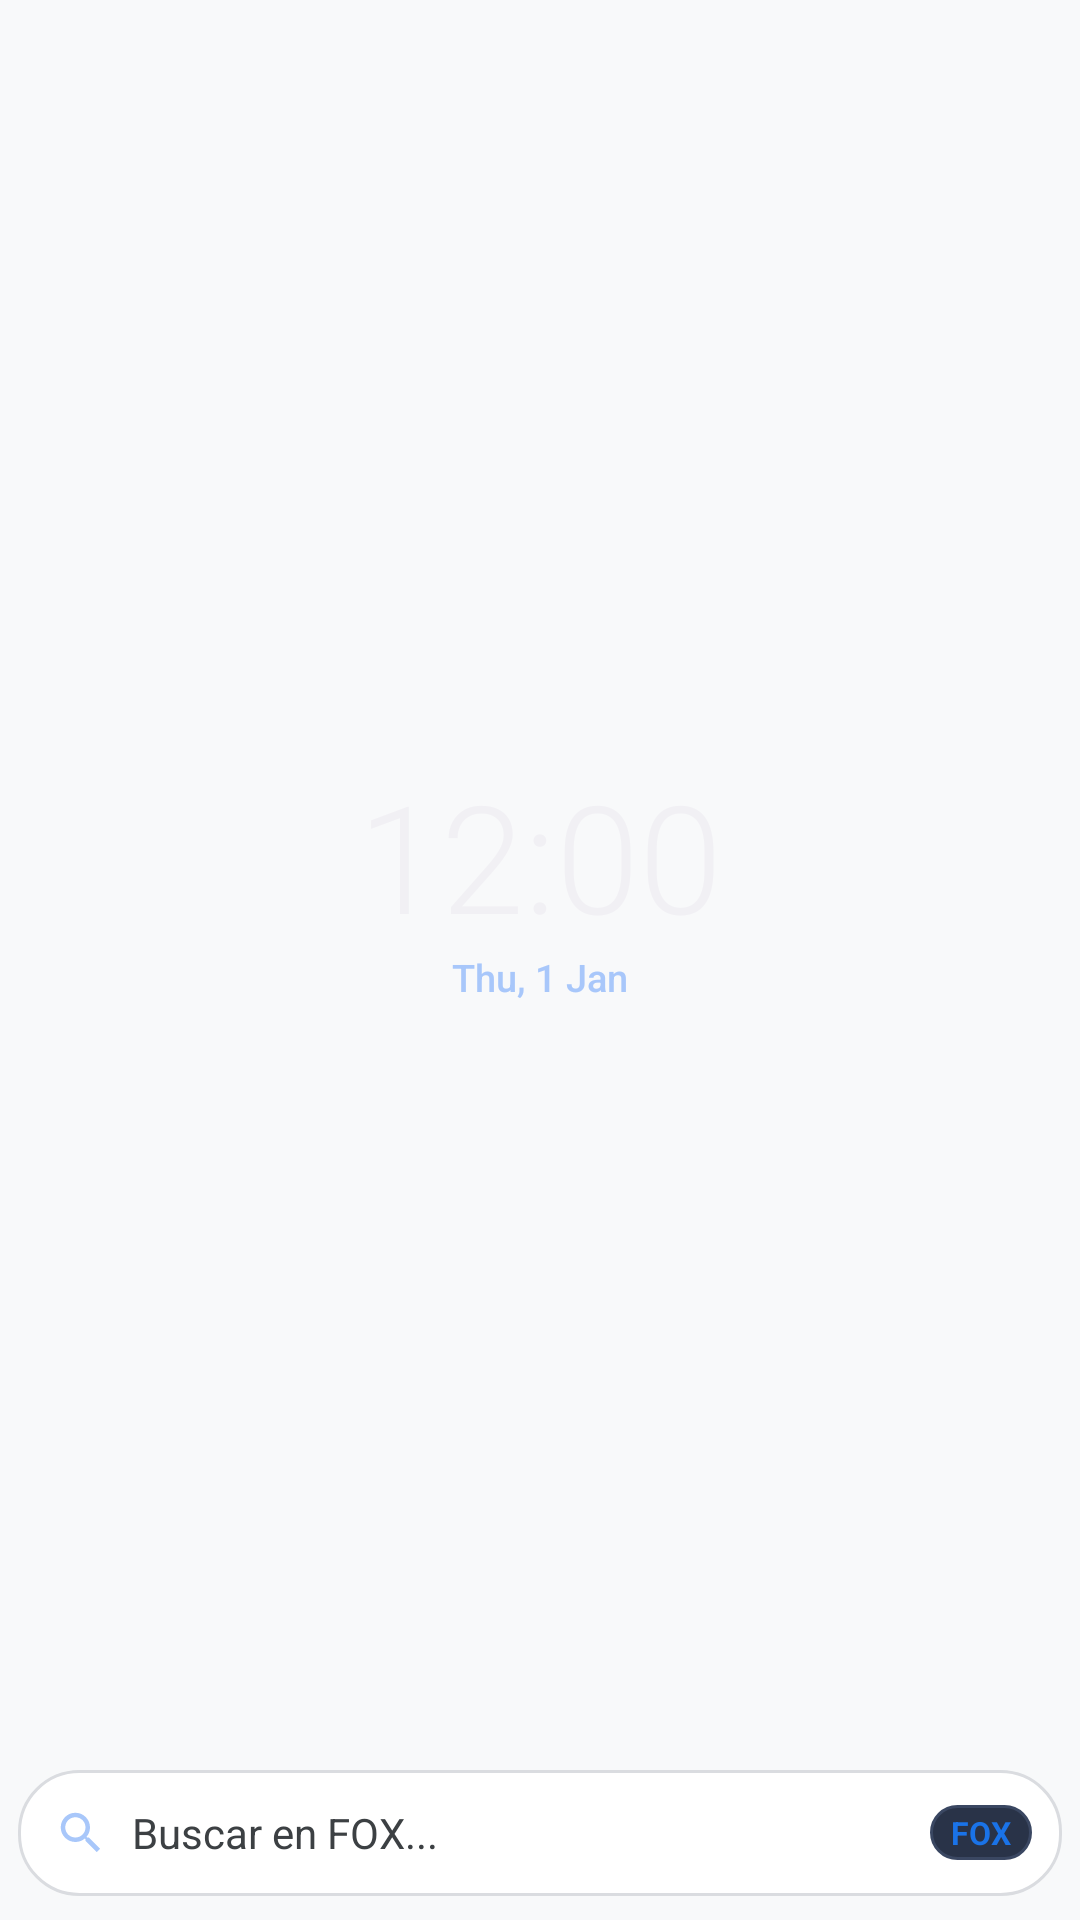

Locate icon controls on the screen. Image size 1080px×1920px, boxes as [x1, y1, x2, y2].
search: [61, 1813, 100, 1852]
